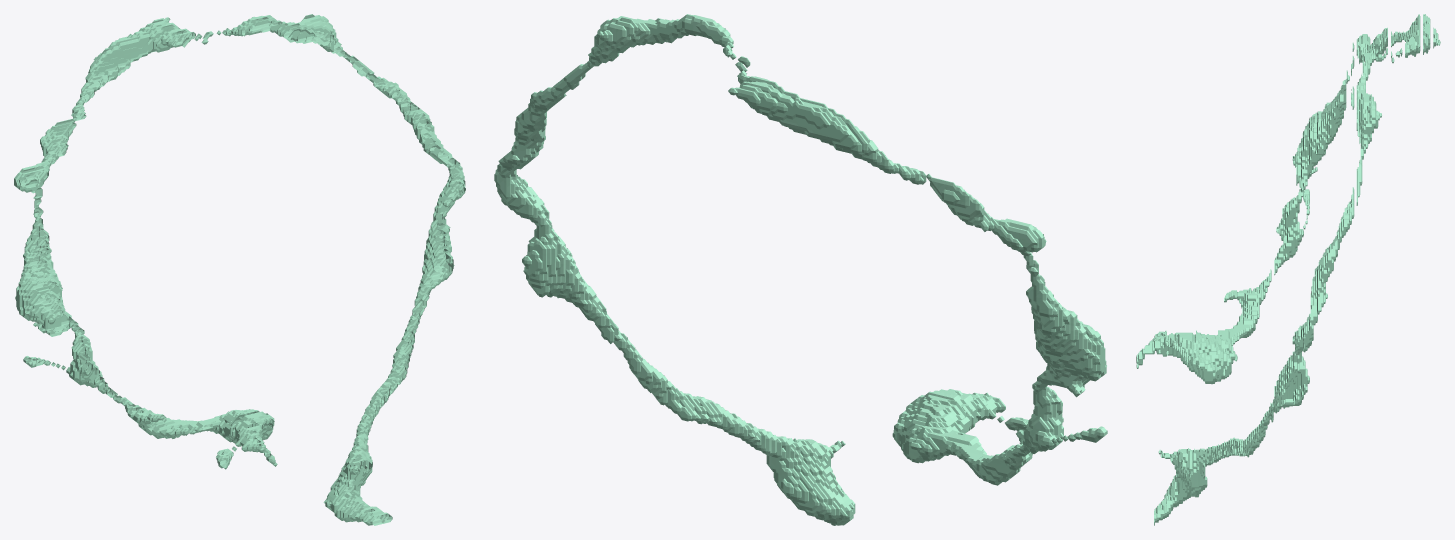
Rendered from SVV_AIBR.gltf.
3 views of the same model, side by side, from view 1: azimuth 30°, elevation 25°; view 2: azimuth 150°, elevation 25°; view 3: azimuth 270°, elevation 25° (orthographic). The views are drawn at different scales.
Visible parts, largest first — view 1: AIBR; view 2: AIBR; view 3: AIBR.
Part boxes in pixels (box(x1,y1,x2,y2)): AIBR: box(14, 14, 465, 525); AIBR: box(494, 14, 1107, 525); AIBR: box(1136, 14, 1440, 525).
Size of the model in its own units: 101428 by 95780 by 58122.
